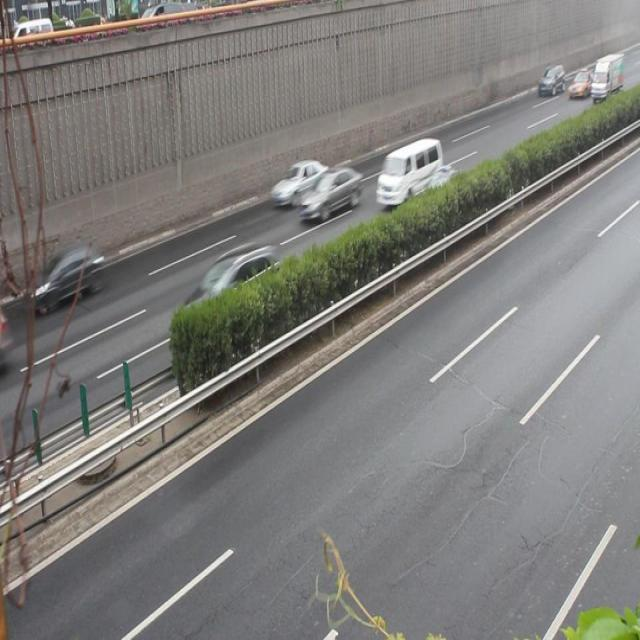car: (178, 242, 289, 329), (29, 241, 104, 308), (408, 170, 468, 225), (299, 163, 359, 214), (270, 158, 326, 205), (566, 65, 594, 96), (535, 62, 562, 94), (0, 302, 13, 366)
